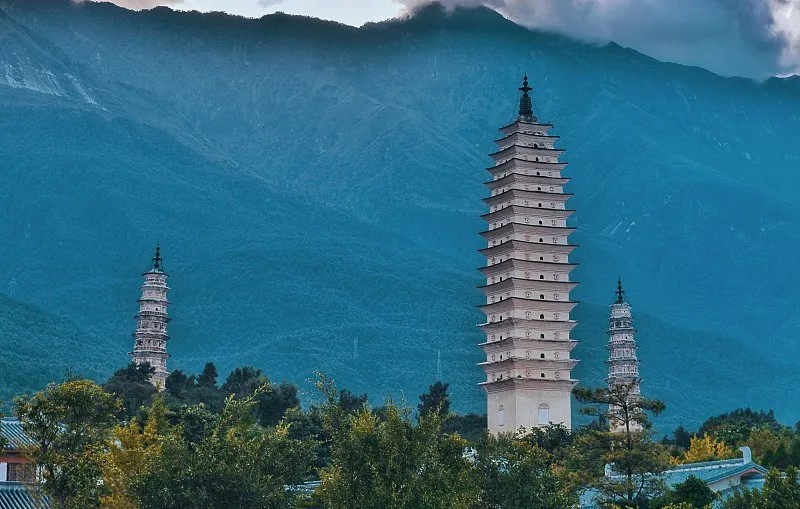ThreePagoda: (477, 71, 582, 435)
